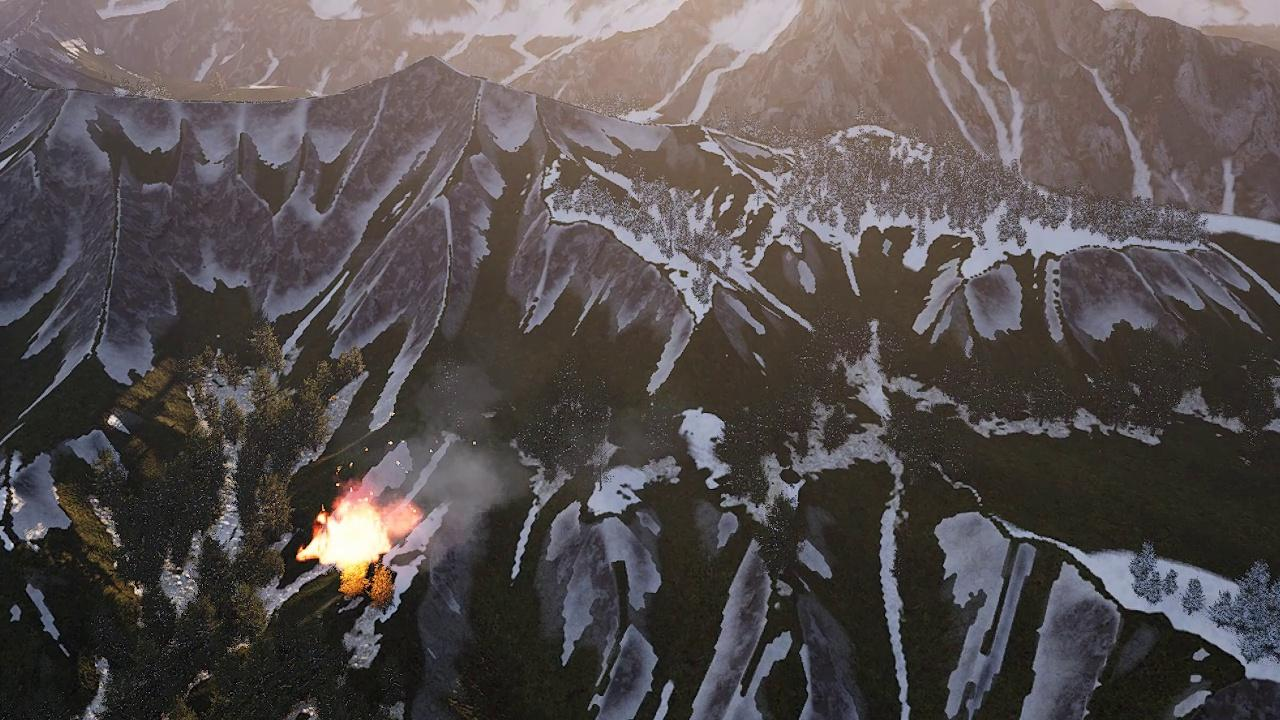fire: (301, 497, 395, 575)
smoke: (357, 347, 525, 561)
